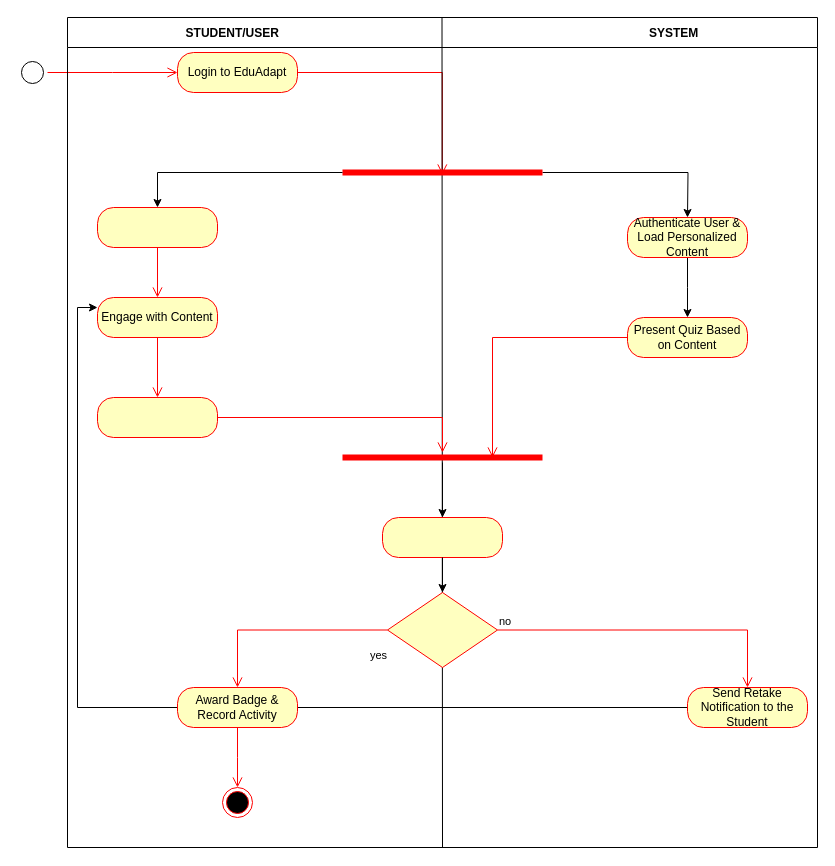
Image size: 835x866. Some labels were removed from this diagram. The shapes that lost their labels are listed below. From the top down, each one's box as (x1, y1, x2, y2) in pixels, then its label:
(96, 206, 218, 248): Select a Course from Dashboard
(96, 396, 218, 438): Submit Quiz
(382, 516, 502, 558): Analyze Quiz Performance
(386, 592, 498, 668): Score >= 85%?
